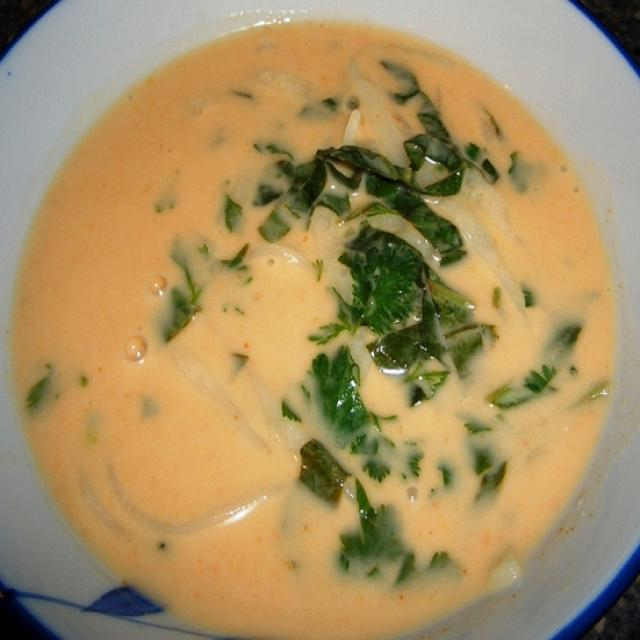汤锅炖物: (17, 37, 604, 617)
